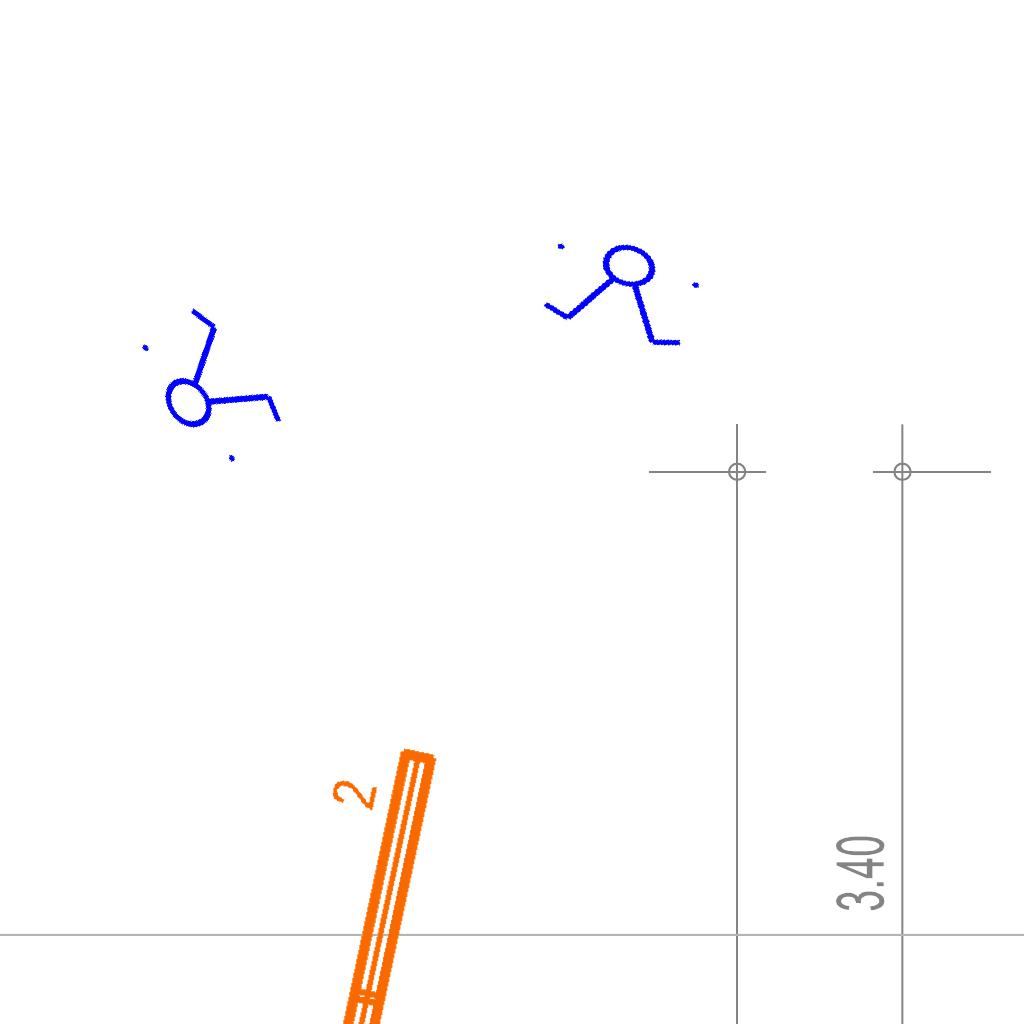Ambulanz_Pendelleuchte_LED: (180, 725, 452, 1024)
Serienschalter: (118, 290, 298, 482), (529, 221, 717, 361)
